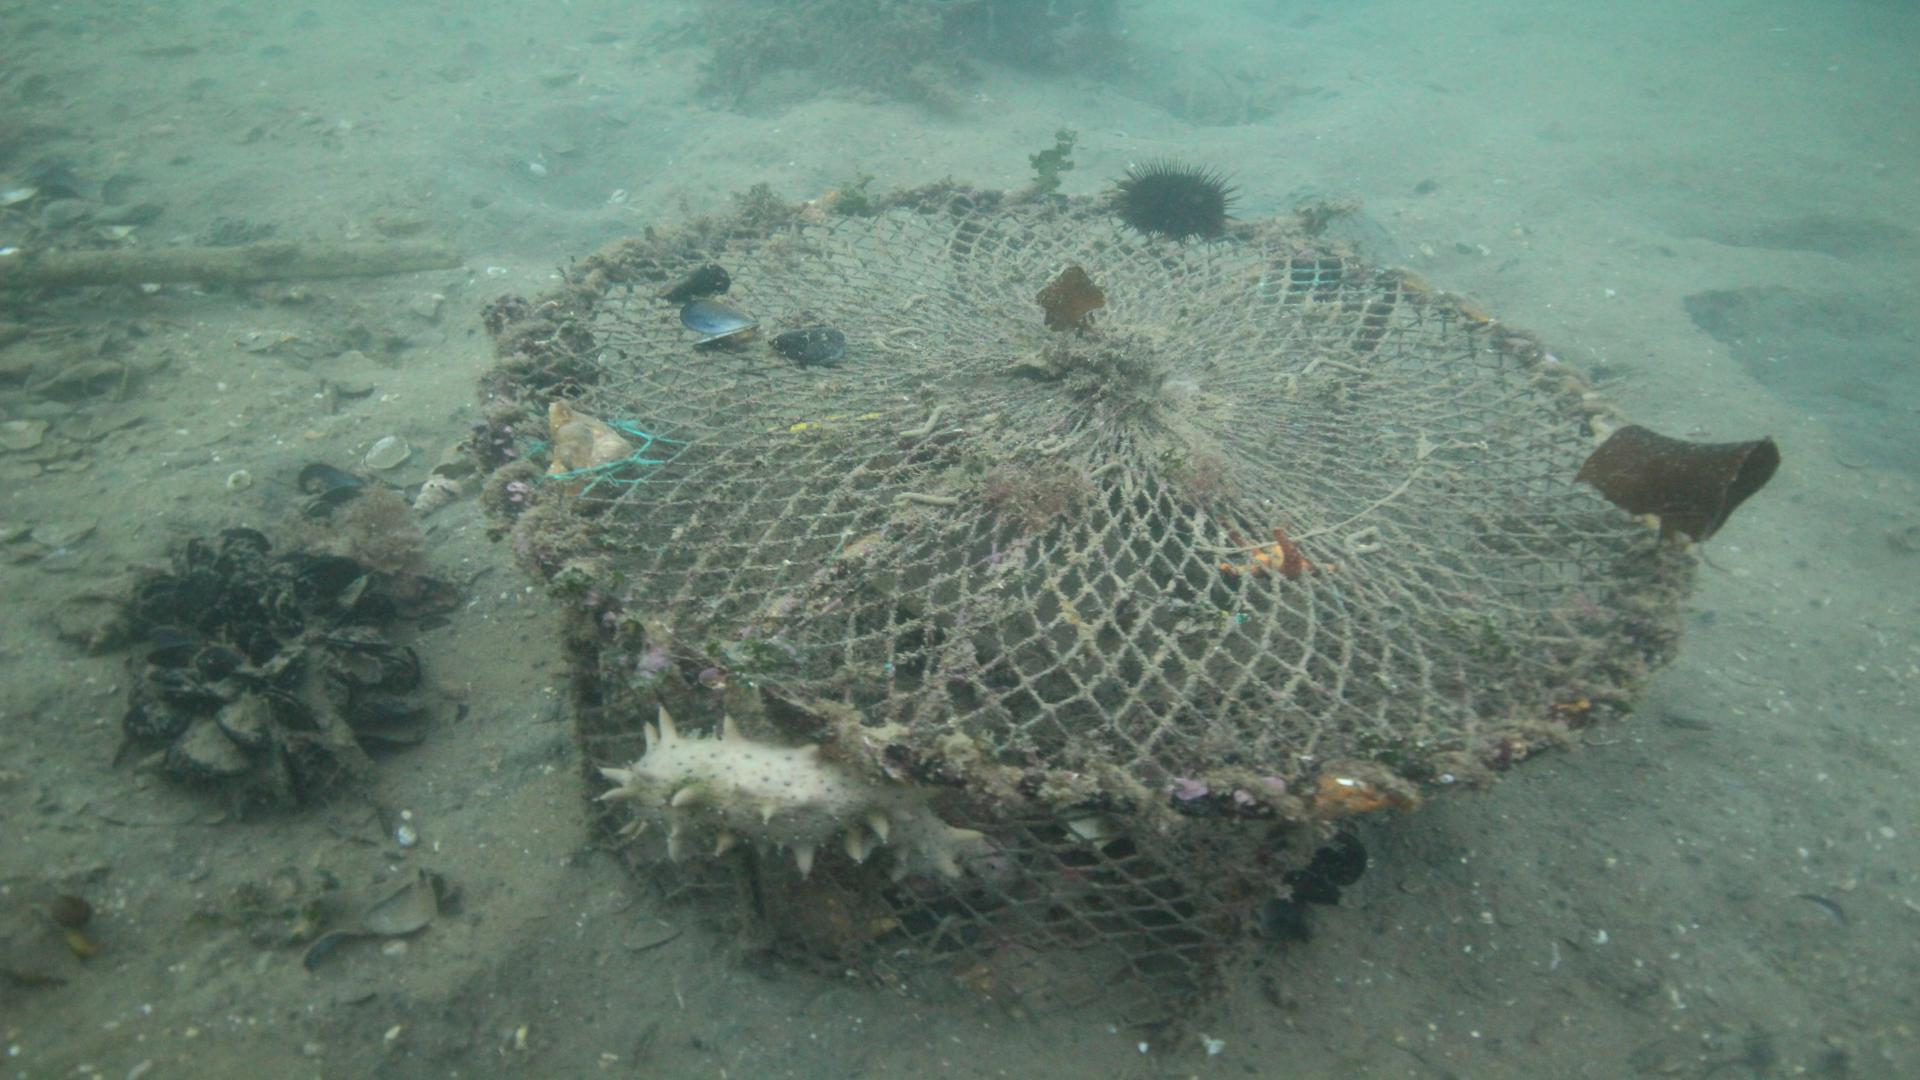circular fish trap: (475, 185, 1696, 998)
